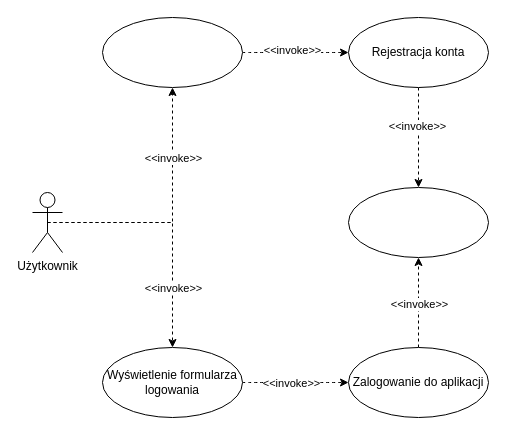
Image size: 506x435. Some labels were removed from this diagram. The centre of each missing label's shape, as x and y in pixels:
"Wyświetlenia formularza rejestracji" goes at [172,52].
"Wyświetlenie widoku aktualności" goes at [418,222].
